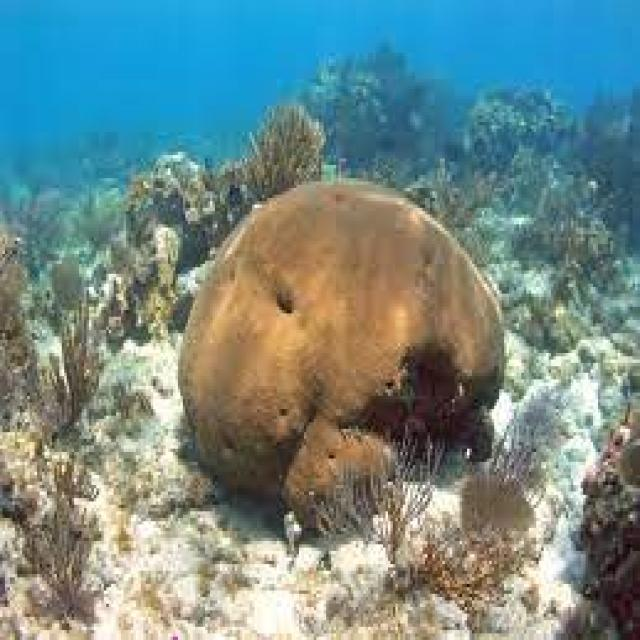Coral: (177, 181, 505, 533)
